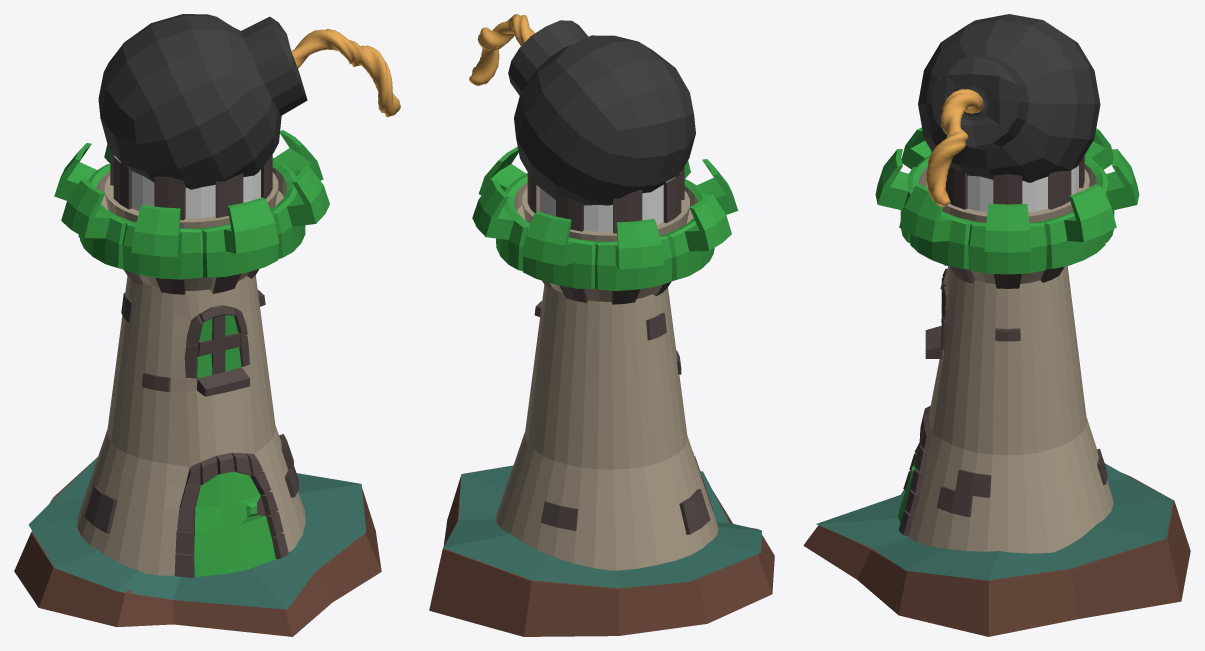
File: bomba_kule_toprak.fbx
The picture shows the model from 3 angles, left to right: view 1: azimuth 30°, elevation 25°; view 2: azimuth 150°, elevation 25°; view 3: azimuth 270°, elevation 25°; orthographic projection. The views are drawn at different scales.
Parts seen in each view (by area): view 1: Cylinder.014, cımen.013, Circle.013; view 2: Cylinder.014, Circle.013, cımen.013; view 3: Cylinder.014, Circle.013, cımen.013.
Boxes of the visible parts, x1=… form: Cylinder.014: x1=54, y1=14, x2=400, y2=577; cımen.013: x1=28, y1=457, x2=366, y2=609; Circle.013: x1=14, y1=457, x2=381, y2=636; Cylinder.014: x1=469, y1=14, x2=738, y2=570; Circle.013: x1=429, y1=476, x2=774, y2=636; cımen.013: x1=443, y1=465, x2=761, y2=588; Cylinder.014: x1=875, y1=14, x2=1139, y2=553; Circle.013: x1=803, y1=473, x2=1190, y2=636; cımen.013: x1=816, y1=463, x2=1173, y2=580.
Size of the model in its own units: 488 by 754 by 496.
